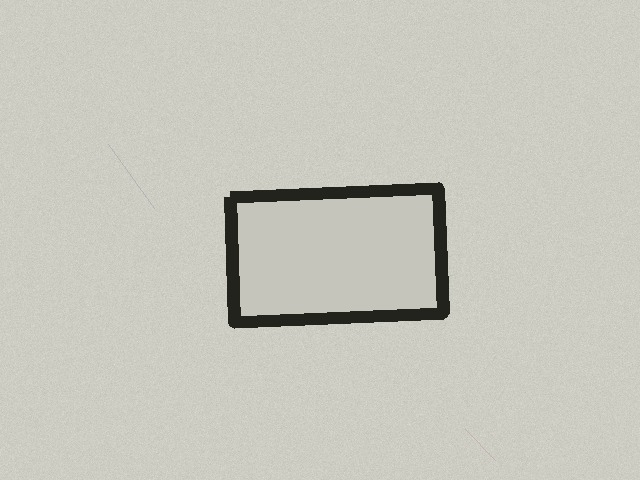parking_area: (230, 188, 443, 322)
